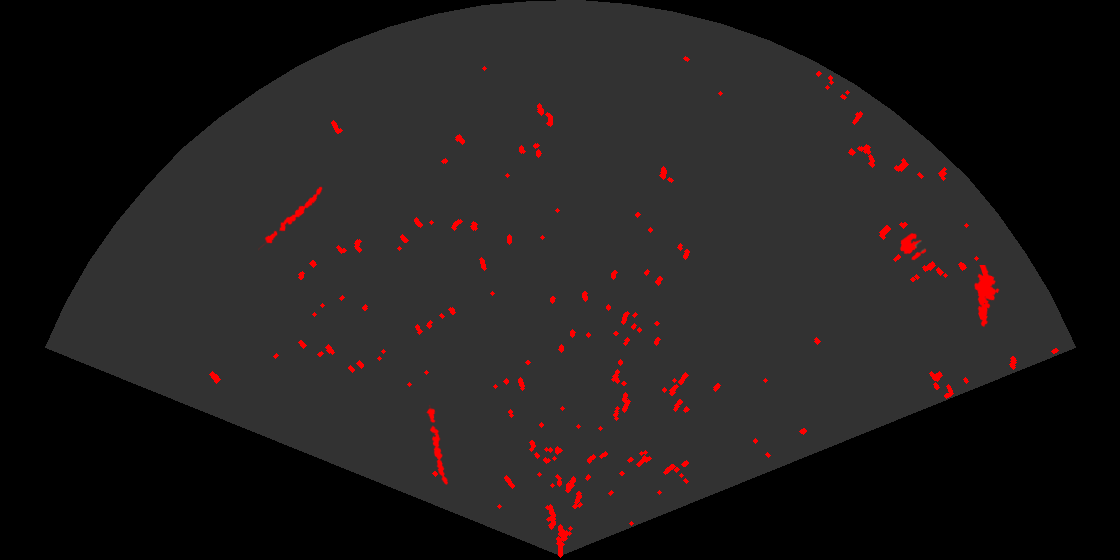ball: (898, 231, 928, 262)
chain: (258, 185, 324, 252), (425, 405, 450, 487)
frogman: (973, 265, 1001, 328)
